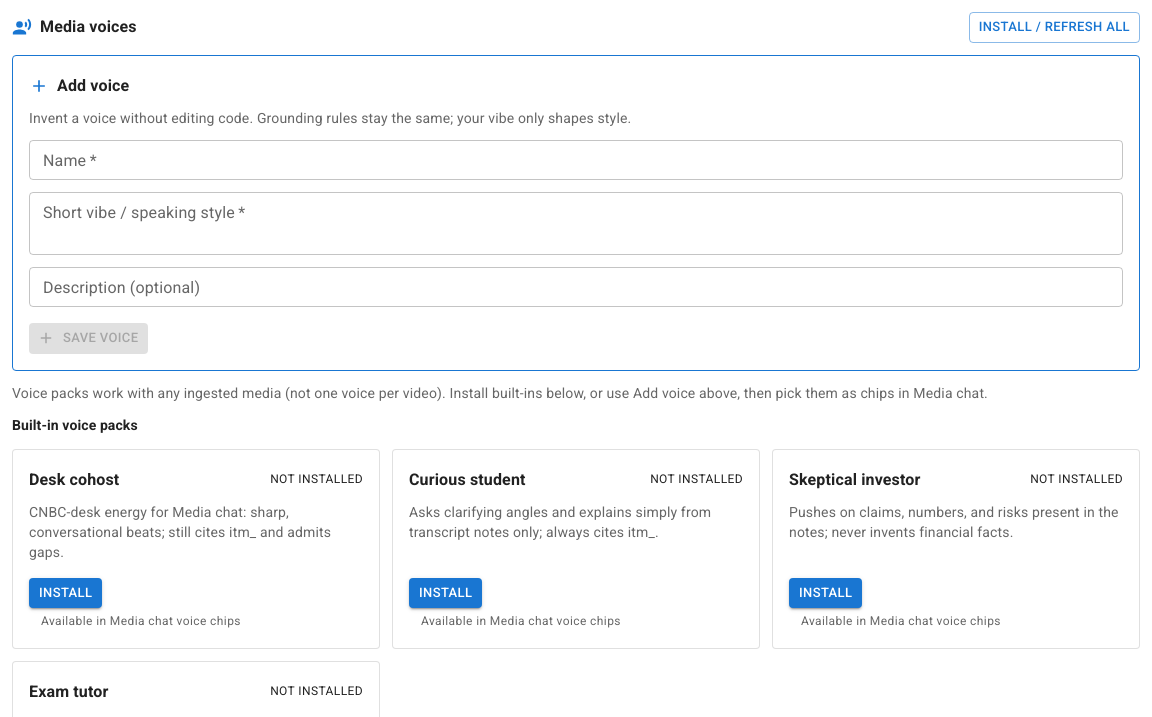
Scenario: MediaPersonasView › installs / refreshes all personas
What coordinates should you click on to do the following:
click the button "Install / refresh all"
I would click on:
 (1054, 27)
Its box is [969, 12, 1140, 43].
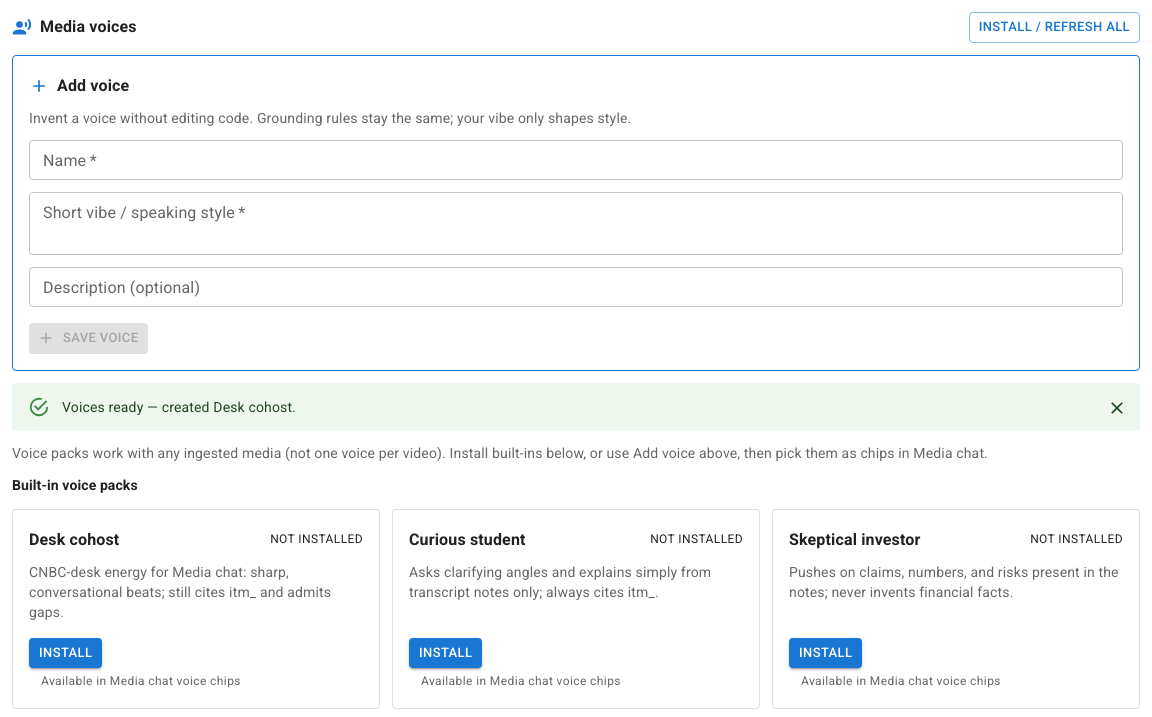
Check: the text "Voices ready — created Desk cohost." is shown, box [62, 398, 296, 414]
